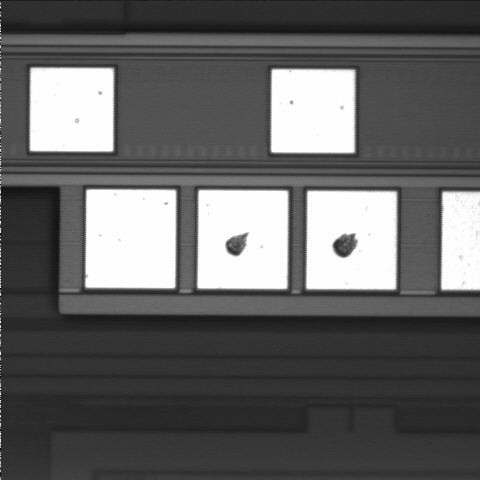pad: (198, 190, 288, 289), (86, 190, 176, 288), (306, 191, 396, 289), (271, 69, 355, 153), (30, 68, 113, 151)
